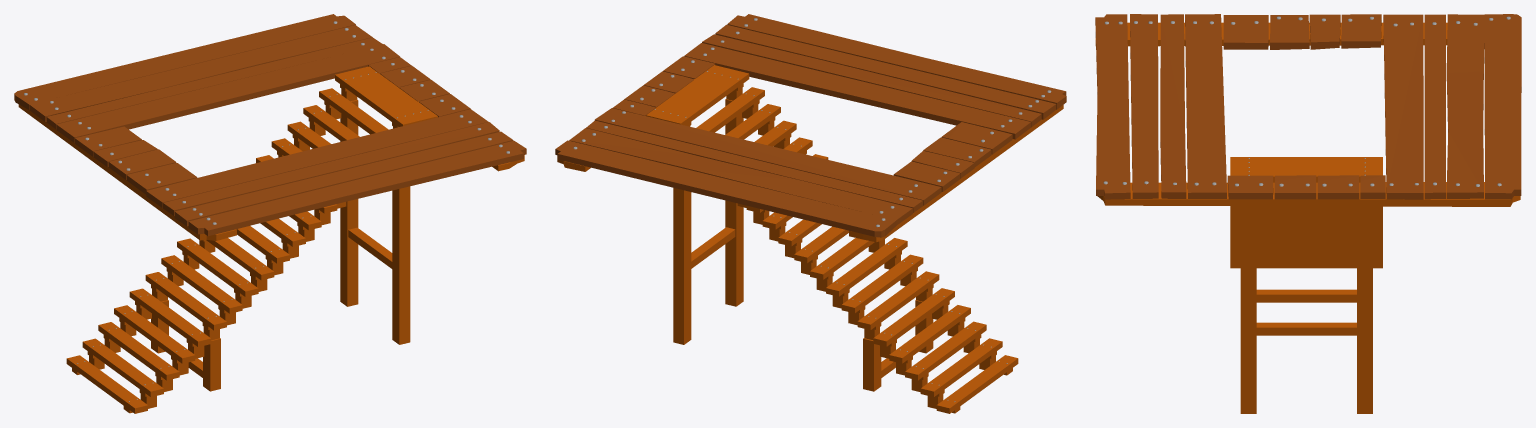
Rendered from WoodenFloorStaired3.fbx.
The picture shows the model from 3 angles, left to right: view 1: azimuth 30°, elevation 25°; view 2: azimuth 150°, elevation 25°; view 3: azimuth 270°, elevation 25°; orthographic projection. The views are drawn at different scales.
Parts seen in each view (by area): view 1: WoodenFloorStaired3_LOD0; view 2: WoodenFloorStaired3_LOD0; view 3: WoodenFloorStaired3_LOD0.
Boxes of the visible parts, bbox=[...] form: WoodenFloorStaired3_LOD0: bbox=[14, 14, 526, 413]; WoodenFloorStaired3_LOD0: bbox=[555, 14, 1066, 413]; WoodenFloorStaired3_LOD0: bbox=[1095, 14, 1521, 413].
Size of what is drawn, in the model's own units: 1885 by 1229 by 1855.
